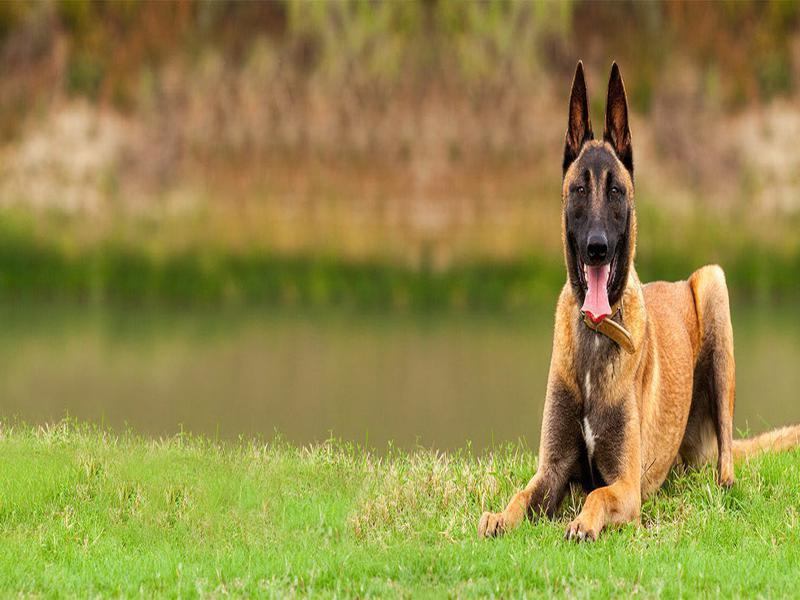dog_down: (475, 62, 737, 546)
